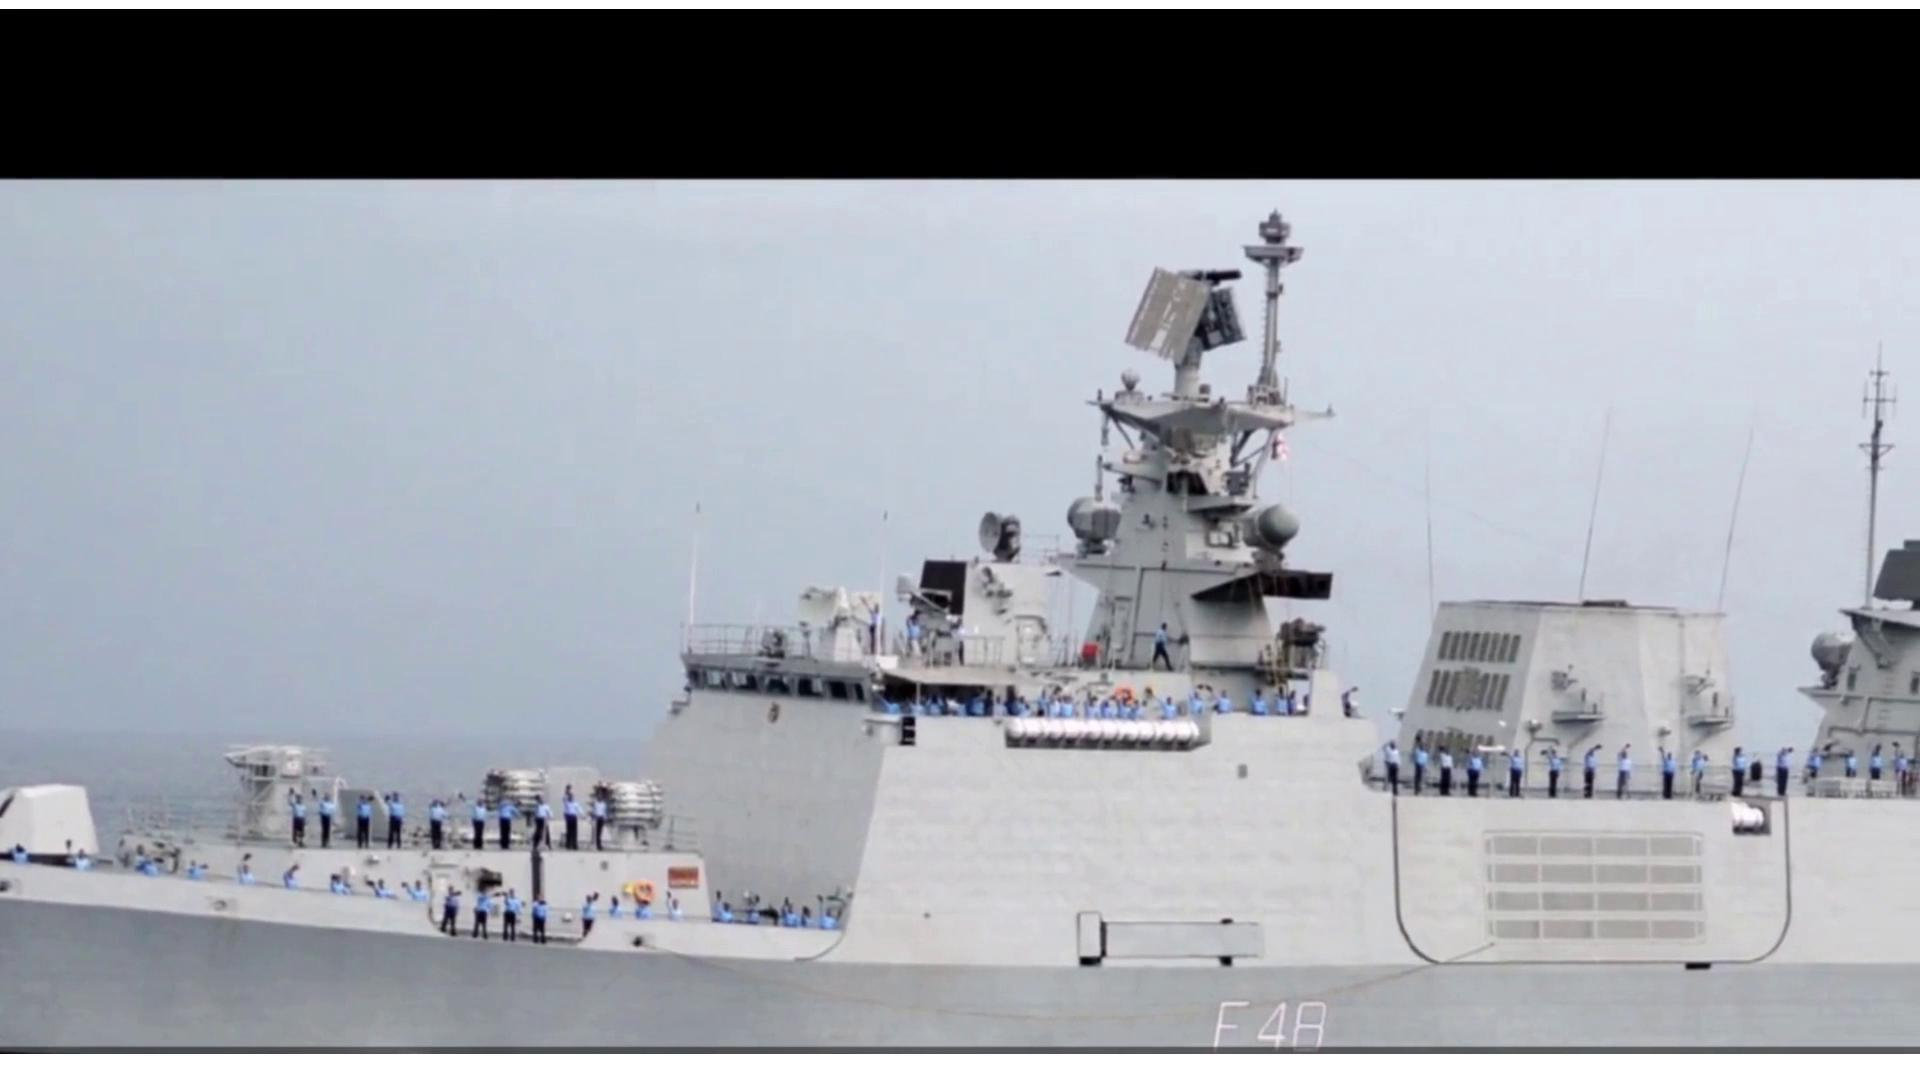OCR: (1199, 989, 1357, 1051)
